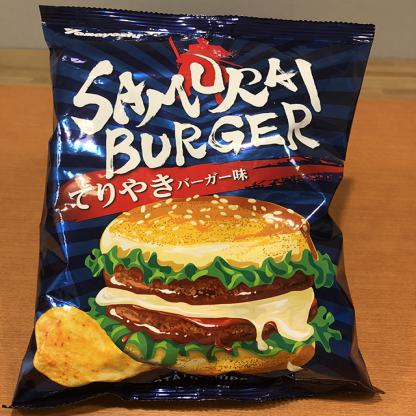potatochip: (12, 1, 380, 416)
